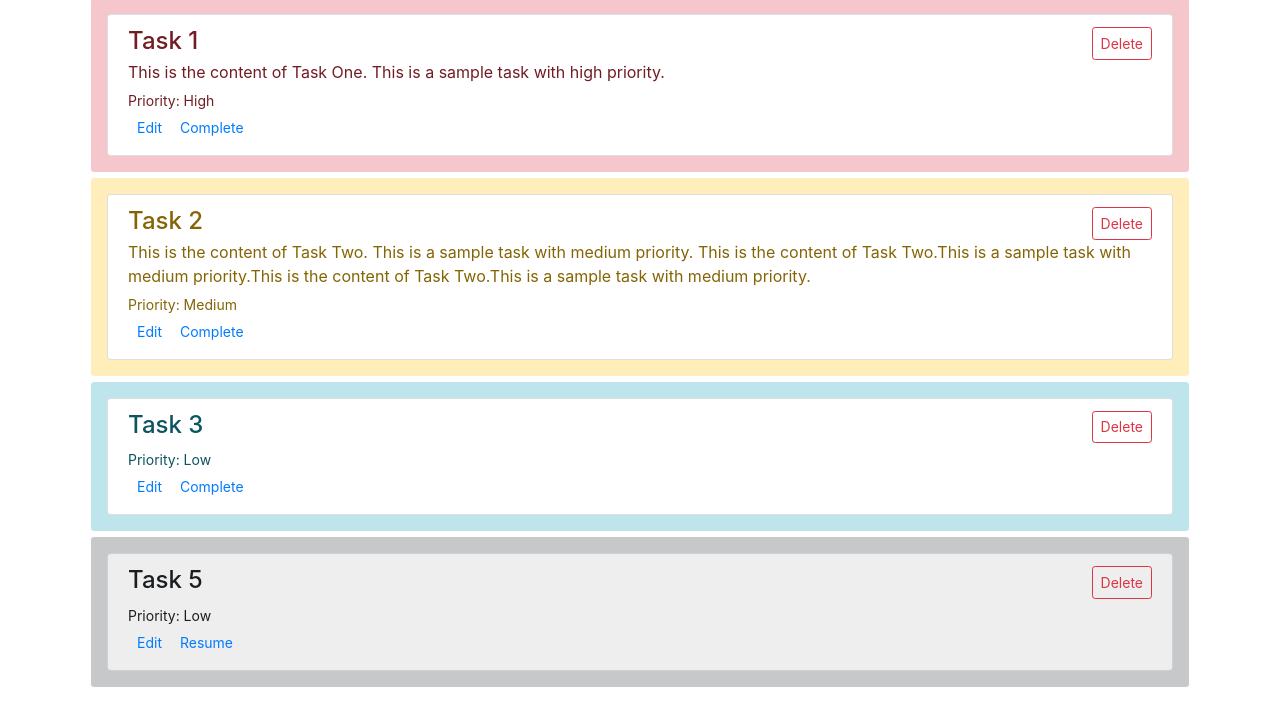
Scenario: resume a task
This screenshot has width=1280, height=720.
(page scrolled)
Click the button "Resume" at (207, 643), box [171,627,242,658]
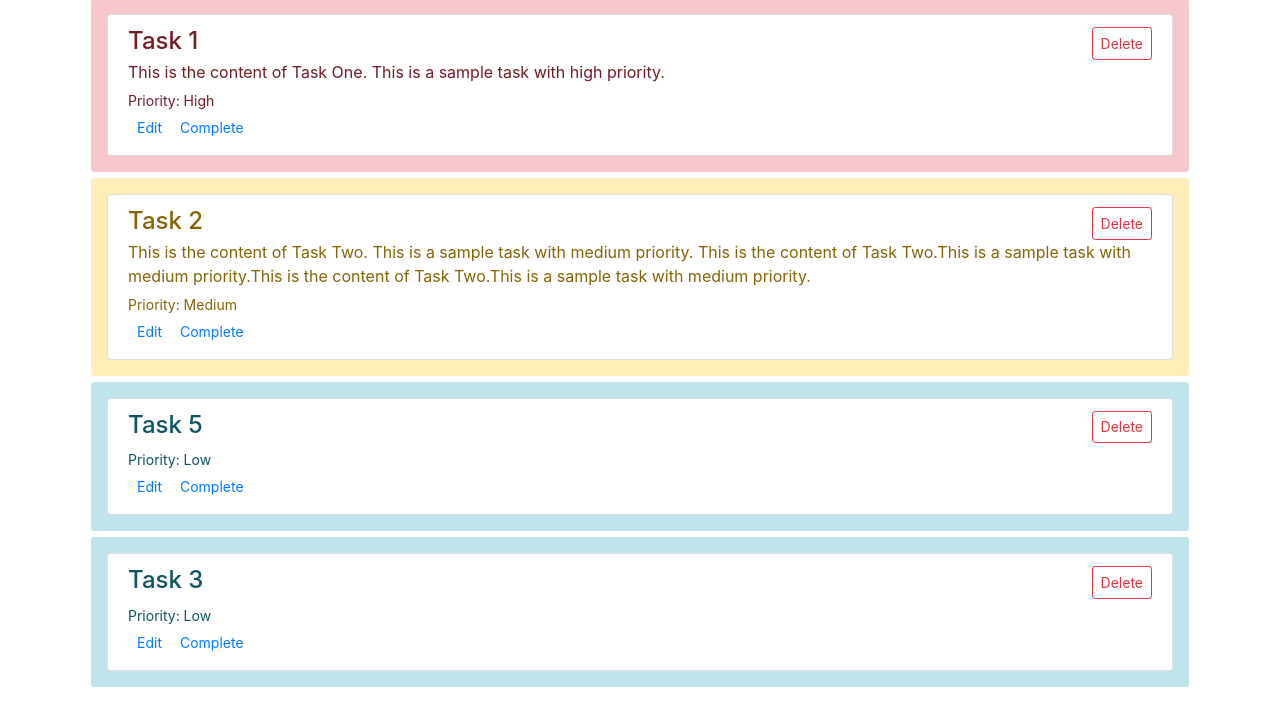
Expected: no buttons "Resume" are shown
